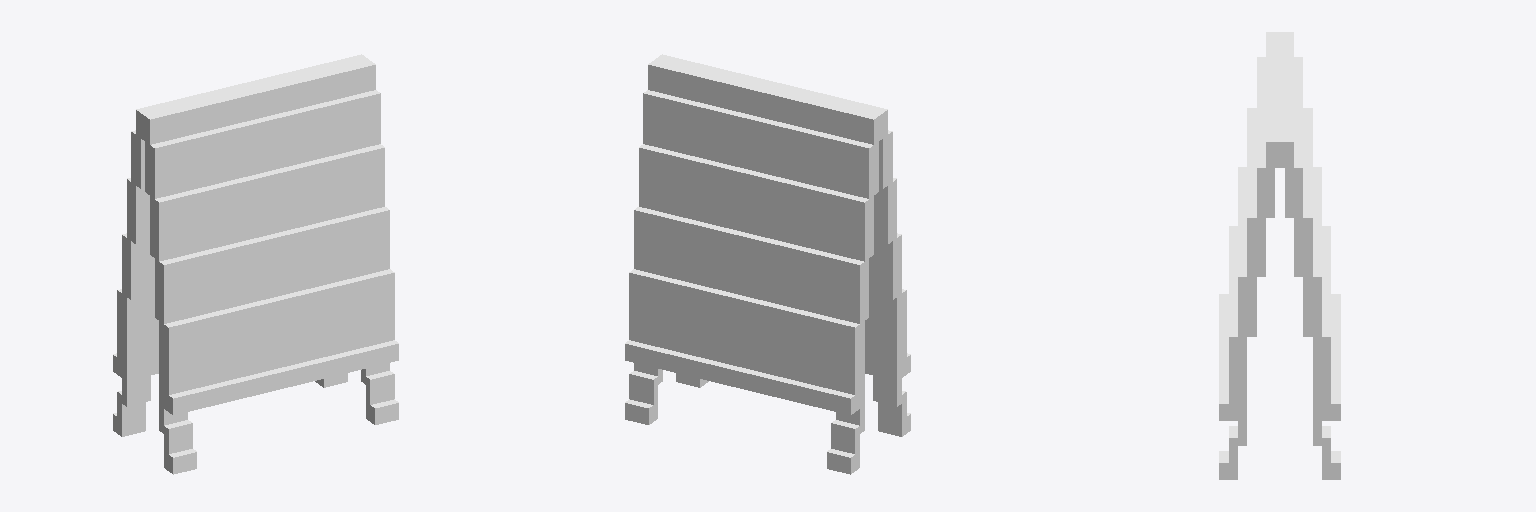
The model's file is kanban.obj.
3 renders of one model, left to right at view 1: azimuth 30°, elevation 25°; view 2: azimuth 150°, elevation 25°; view 3: azimuth 270°, elevation 25°, orthographic.
Parts seen in each view (by area): view 1: object 1; view 2: object 1; view 3: object 1.
Boxes of the visible parts, <box> form: object 1: <box>113,54,398,474</box>; object 1: <box>625,54,910,474</box>; object 1: <box>1219,32,1340,479</box>.
Size of the model in its own units: 2.8 by 4 by 1.3.